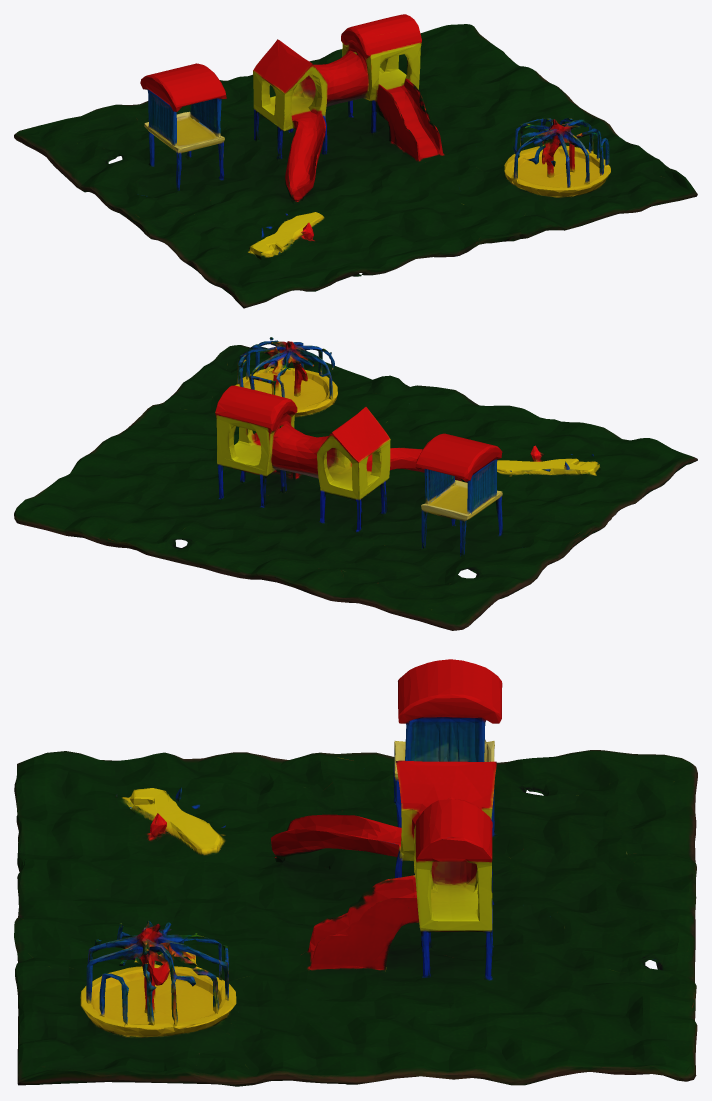
The model's file is park.glb.
The picture shows the model from 3 angles, top to bottom: view 1: azimuth 30°, elevation 25°; view 2: azimuth 150°, elevation 25°; view 3: azimuth 270°, elevation 25°; orthographic projection. The views are drawn at different scales.
Visible parts, largest first — view 1: world; view 2: world; view 3: world.
Boxes of the visible parts, box(x1,y1,x2,y2) form: world: box(14, 14, 697, 308); world: box(14, 337, 697, 630); world: box(14, 659, 697, 1086).
Size of the model in its own units: 1 by 0.2239 by 0.8985.
Materials: 1 (1 with a texture image).
